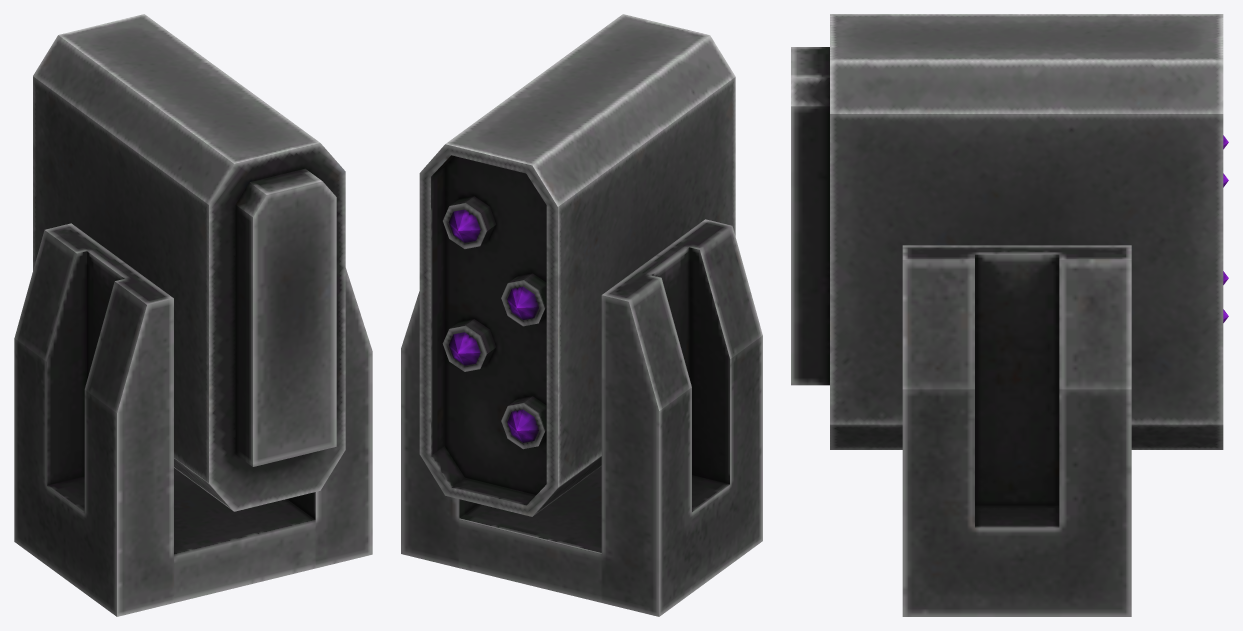
Rendered from Turret_LPL.FBX.
3 renders of one model, left to right at view 1: azimuth 30°, elevation 25°; view 2: azimuth 150°, elevation 25°; view 3: azimuth 270°, elevation 25°, orthographic. The views are drawn at different scales.
Visible parts, largest first — view 1: mantlet_1 lpl, turret lpl; view 2: mantlet_1 lpl, turret lpl; view 3: mantlet_1 lpl, turret lpl.
Boxes of the visible parts, box(x1,y1,x2,y2) form: mantlet_1 lpl: box(33, 14, 345, 511); turret lpl: box(14, 223, 372, 616); mantlet_1 lpl: box(419, 14, 735, 516); turret lpl: box(401, 219, 762, 616); mantlet_1 lpl: box(791, 14, 1228, 449); turret lpl: box(902, 245, 1131, 616).
Bounding box in the file's own units: 9.21 × 15.71 × 12.23.
1 material, 1 textured.
